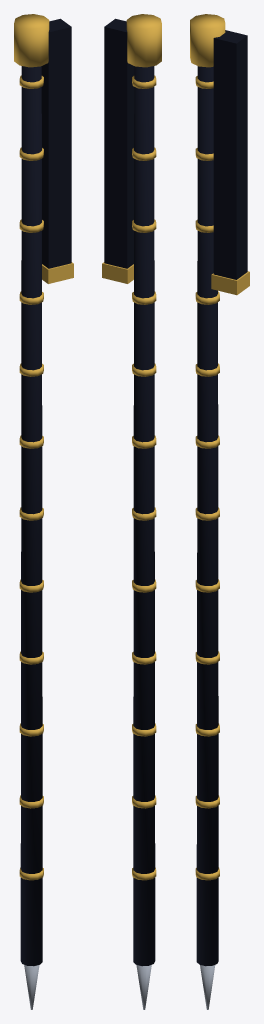
Rendered from lintel.glb.
The picture shows the model from 3 angles, left to right: view 1: azimuth 30°, elevation 25°; view 2: azimuth 150°, elevation 25°; view 3: azimuth 330°, elevation 25°; orthographic projection.
Parts seen in each view (by area): view 1: Lintel; view 2: Lintel; view 3: Lintel.
Part boxes in pixels (bbox=[...]): Lintel: bbox=[14, 14, 73, 1009]; Lintel: bbox=[102, 14, 161, 1009]; Lintel: bbox=[190, 14, 249, 1009].
Size of the model in its own units: 0.1103 by 2.06 by 0.068.
